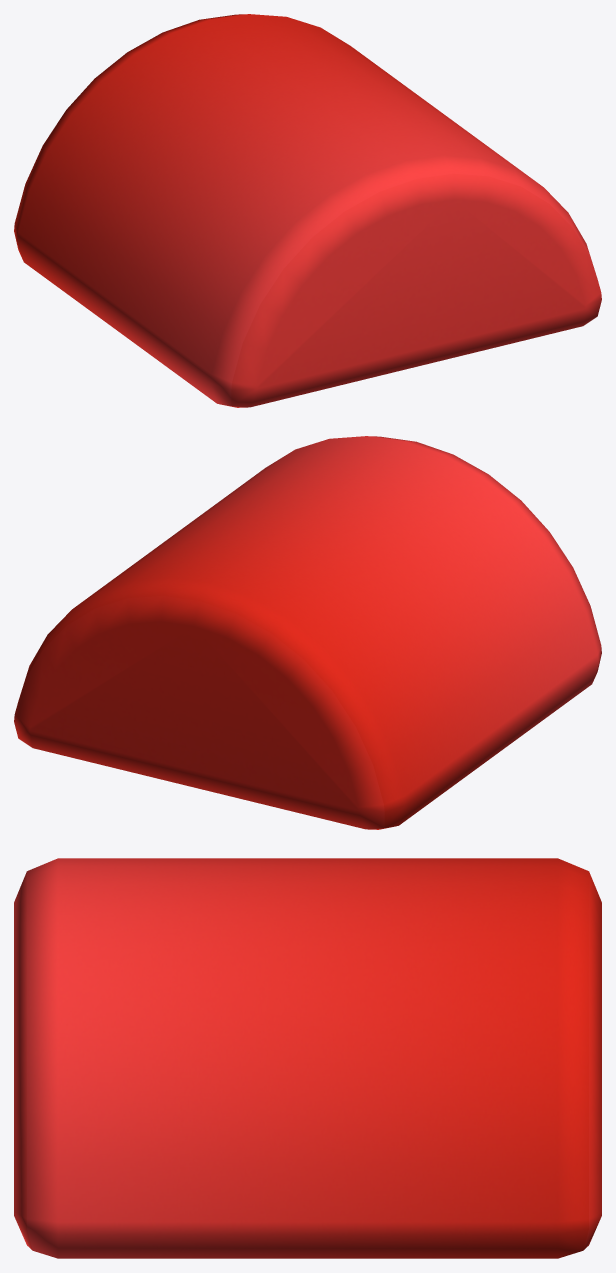
Rendered from BlockDomedRoofRed.fbx.
3 renders of one model, top to bottom at view 1: azimuth 30°, elevation 25°; view 2: azimuth 150°, elevation 25°; view 3: azimuth 270°, elevation 25°, orthographic. The views are drawn at different scales.
Parts seen in each view (by area): view 1: Cylinder.009; view 2: Cylinder.009; view 3: Cylinder.009.
Boxes of the visible parts, box(x1,y1,x2,y2) form: Cylinder.009: box(14, 14, 601, 407); Cylinder.009: box(14, 436, 601, 829); Cylinder.009: box(14, 858, 601, 1258).
Size of the model in its own units: 197 by 100 by 200.
